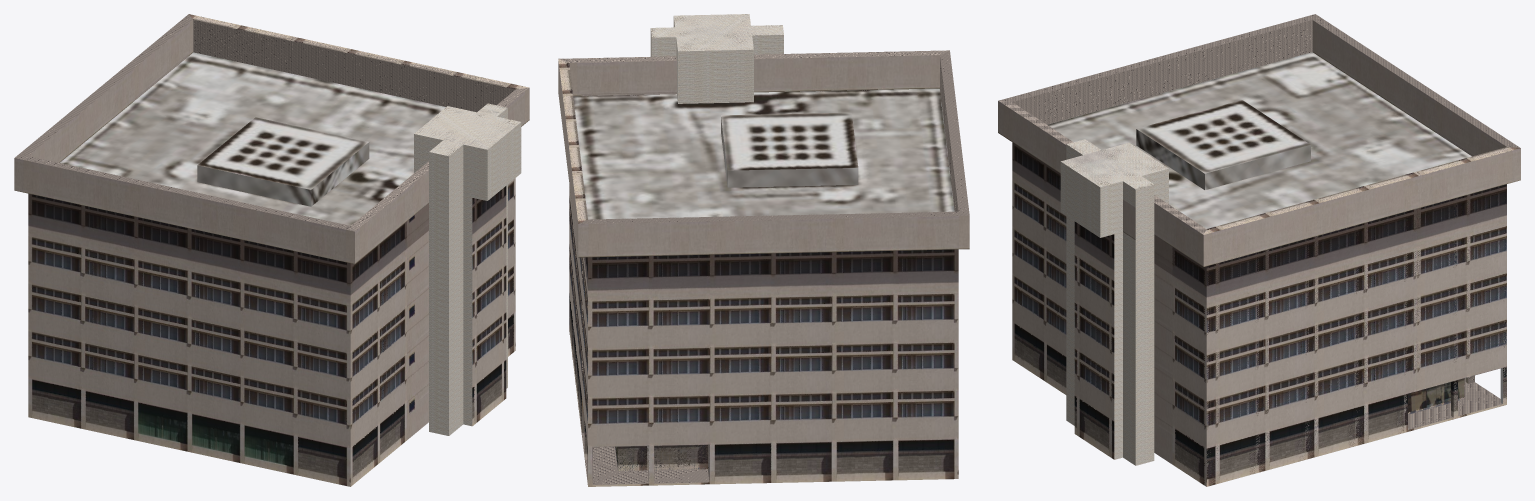
File: aast_ccit.fbx
The picture shows the model from 3 angles, left to right: view 1: azimuth 30°, elevation 25°; view 2: azimuth 150°, elevation 25°; view 3: azimuth 270°, elevation 25°; orthographic projection. The views are drawn at different scales.
Parts seen in each view (by area): view 1: skp57F7_1; view 2: skp57F7_1; view 3: skp57F7_1.
Part boxes in pixels (x1,y1,x2,y2): skp57F7_1: [14, 14, 529, 486]; skp57F7_1: [558, 14, 969, 486]; skp57F7_1: [998, 14, 1520, 486].
Size of the model in its own units: 2025 by 1181 by 2024.
